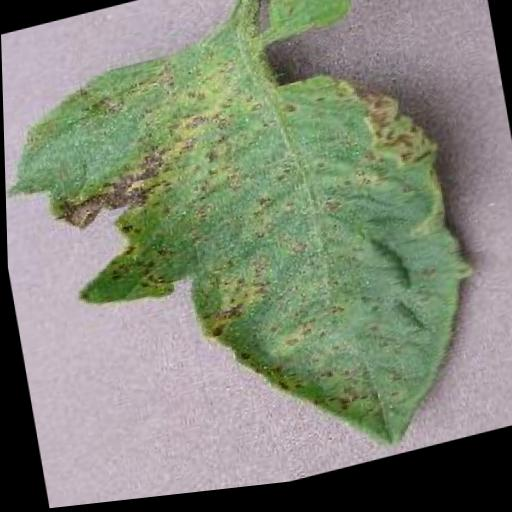Septoria: (1, 0, 501, 512)
